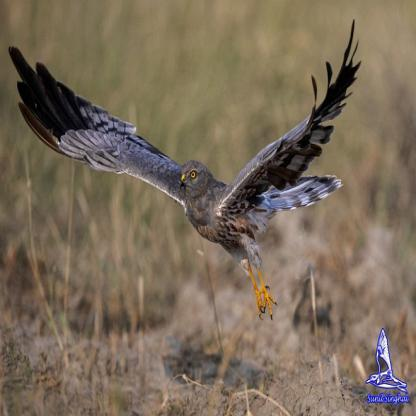Burung: (6, 43, 398, 315)
